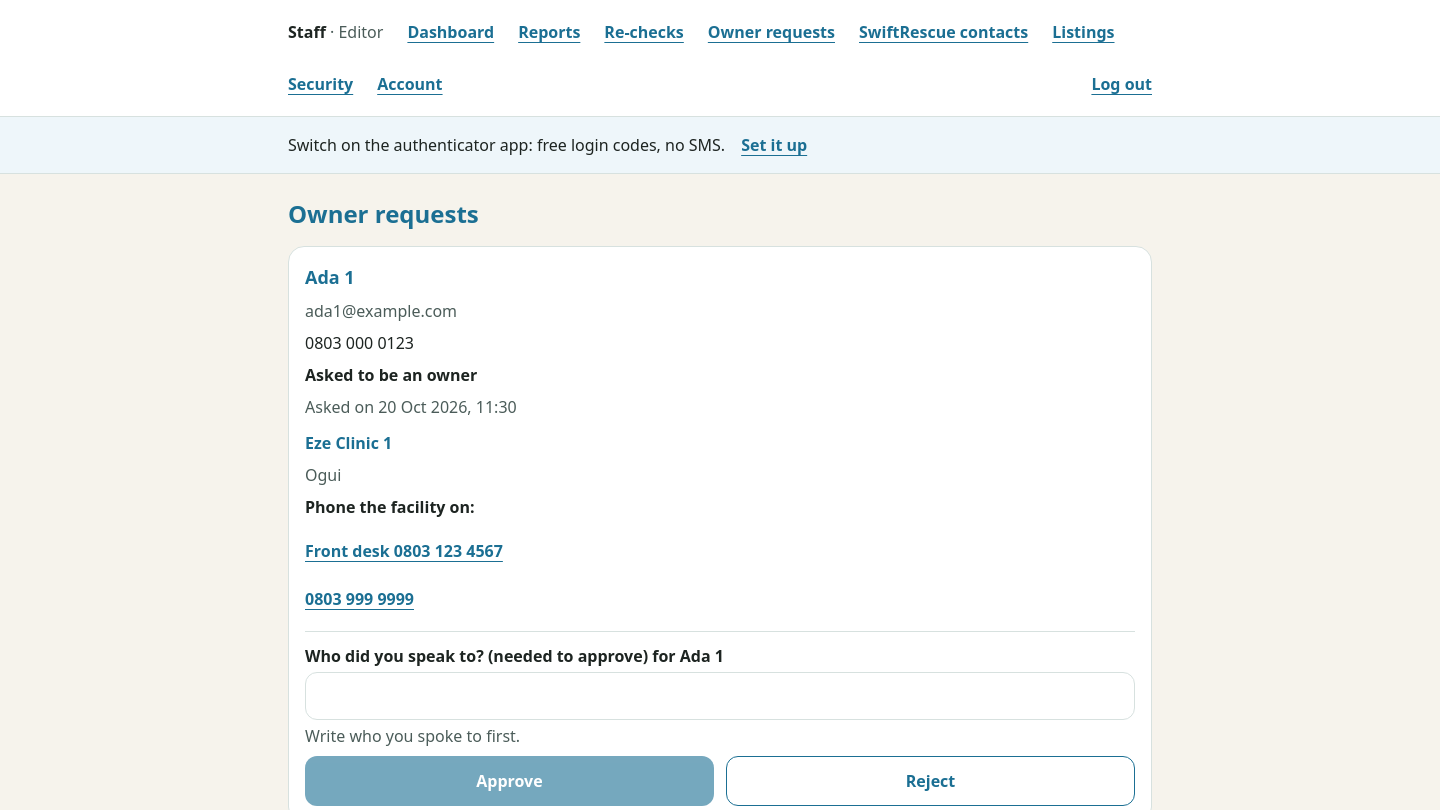
Test case: approving › shows the API's own sentence when a decision is refused, and keeps the card
Type "Mrs Eze" into the field labelled "Who did you speak to? (needed to approve) for Ada 1" at (720, 696), box 305,672 -> 1135,720
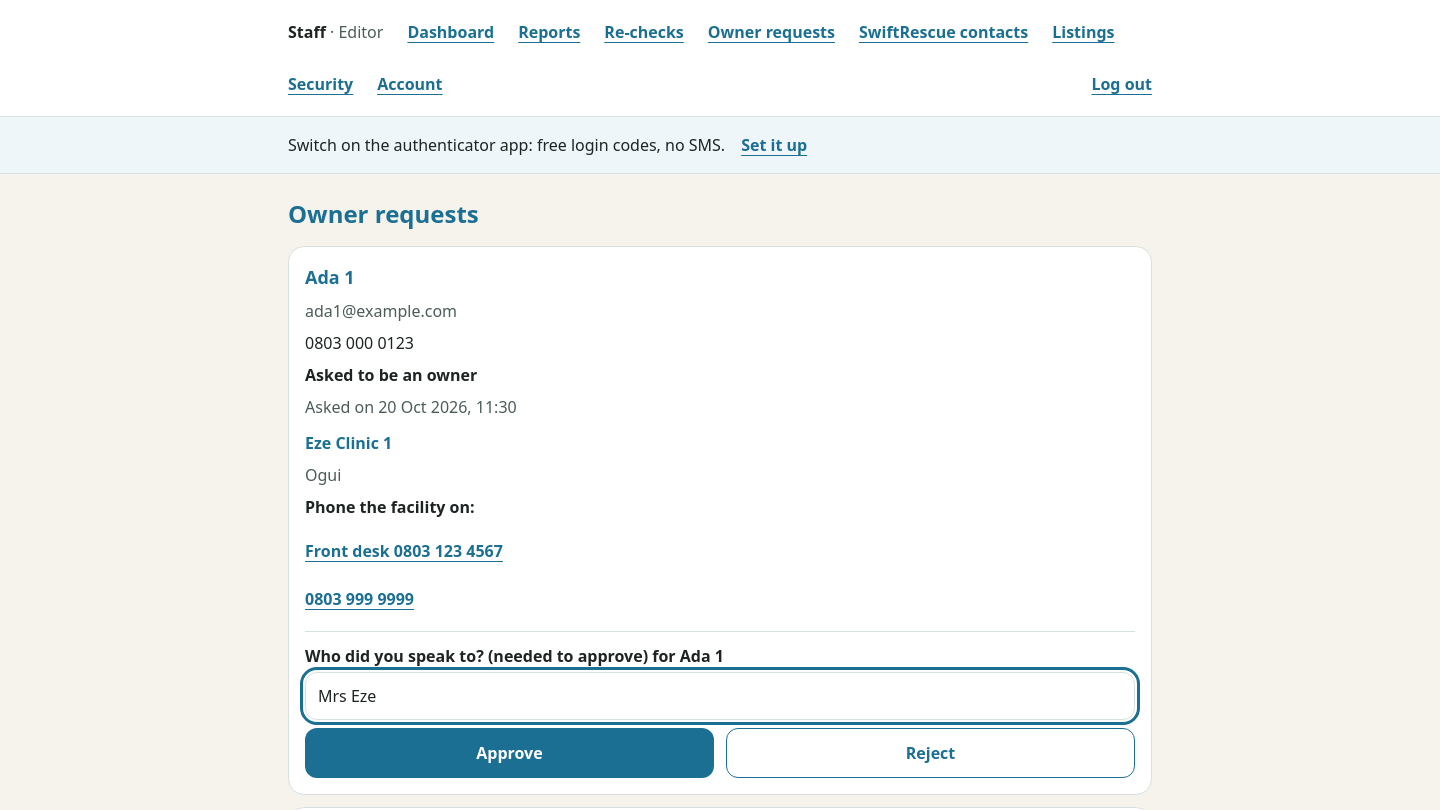
Click the button with aria-label "Approve Ada 1" at (510, 753), box 305,728 -> 714,778
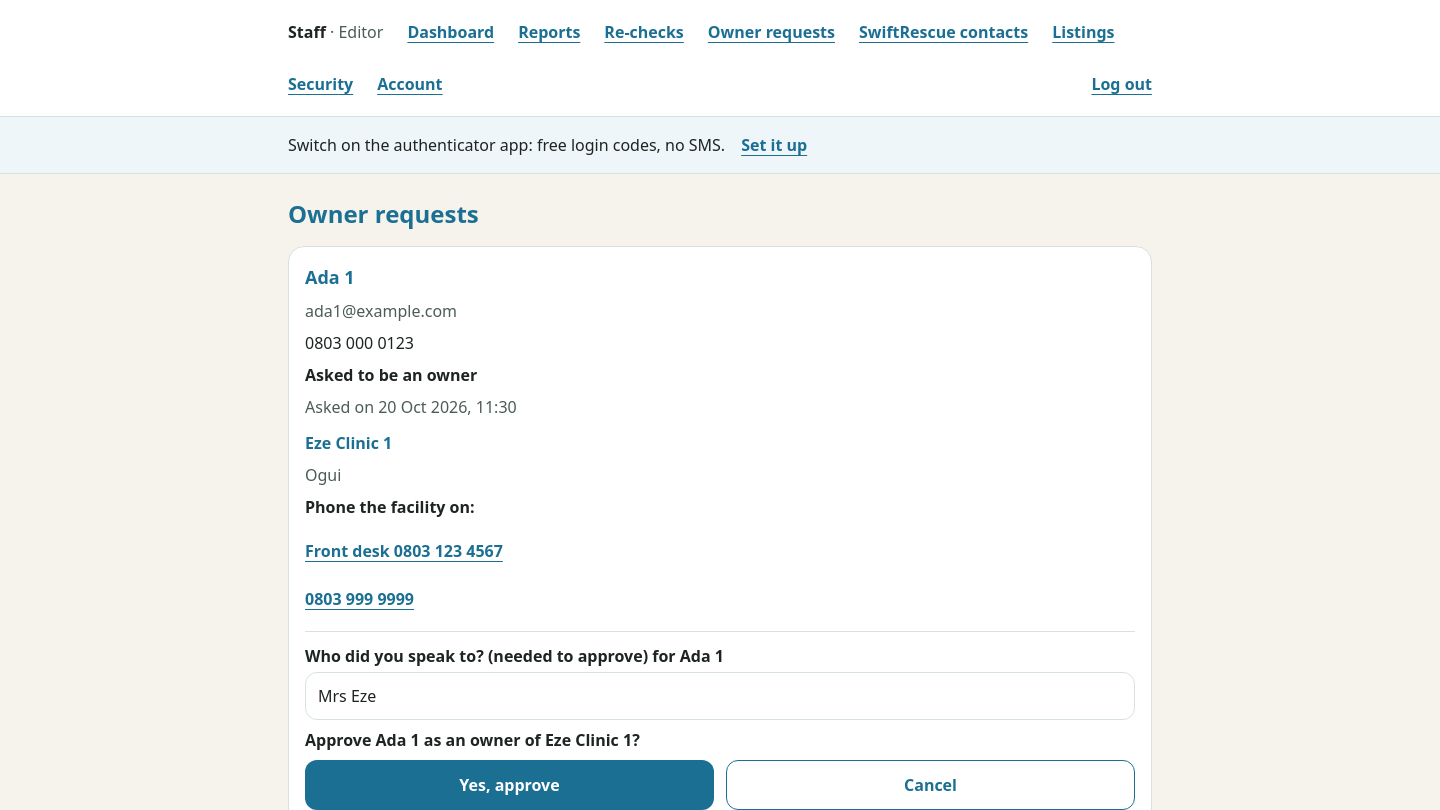
Click the button "Yes, approve" at (510, 785), box 305,760 -> 714,809
(page scrolled)
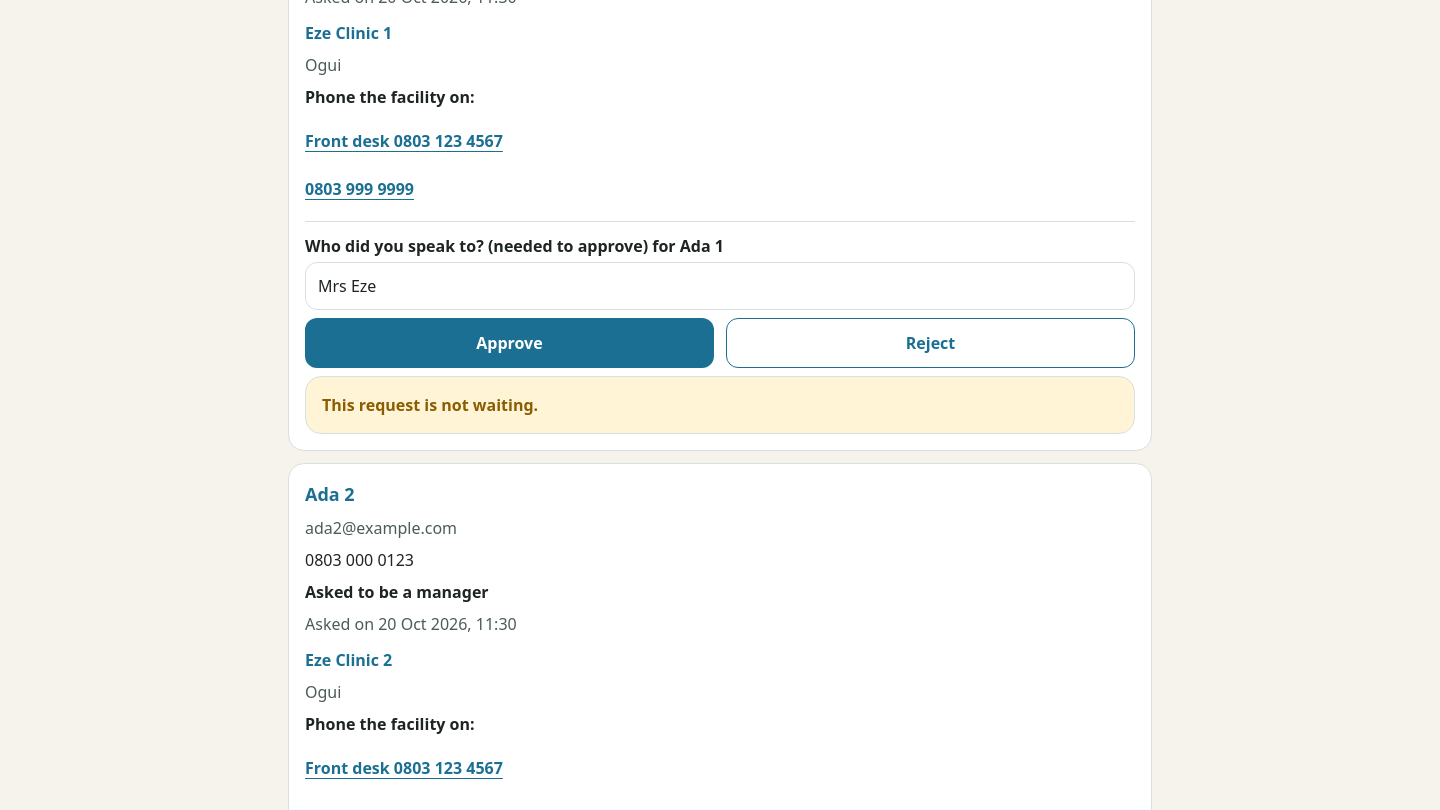
Result: the message reads "This request is not waiting." at 322,394 -> 538,416
